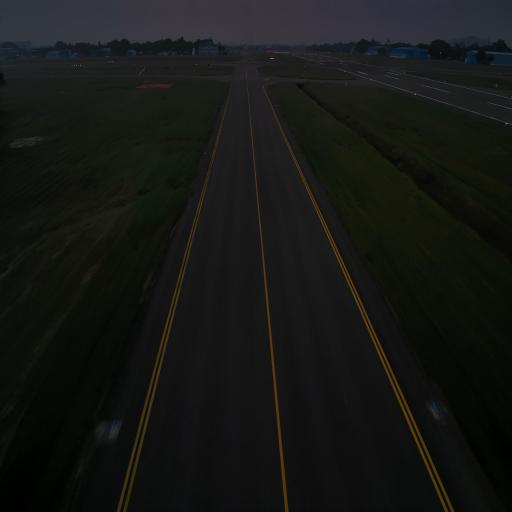on: (432, 396, 440, 419), (108, 418, 118, 435), (205, 150, 207, 154)
